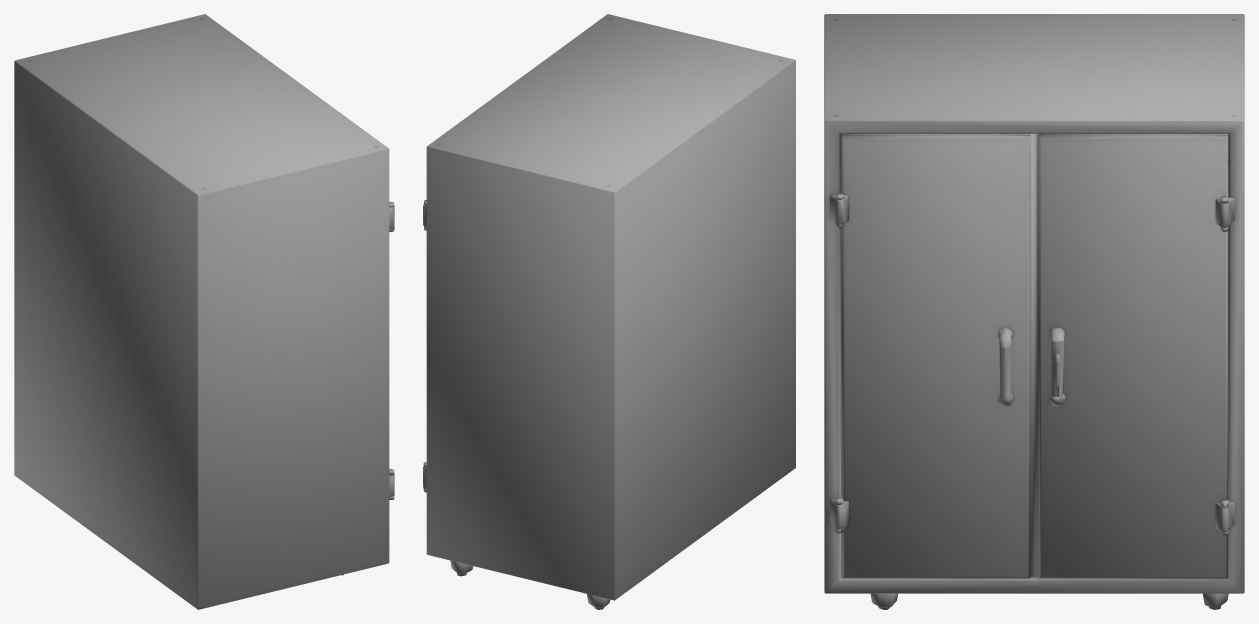
Rendered from cabinet.glb.
The picture shows the model from 3 angles, left to right: view 1: azimuth 30°, elevation 25°; view 2: azimuth 150°, elevation 25°; view 3: azimuth 270°, elevation 25°; orthographic projection. The views are drawn at different scales.
Visible parts, largest first — view 1: tripo_node_e0316133-3cad-4e1a-b404-618dc1505ef9; view 2: tripo_node_e0316133-3cad-4e1a-b404-618dc1505ef9; view 3: tripo_node_e0316133-3cad-4e1a-b404-618dc1505ef9.
Boxes of the visible parts, x1,y1,x2,y2 form: tripo_node_e0316133-3cad-4e1a-b404-618dc1505ef9: (14,14,394,609); tripo_node_e0316133-3cad-4e1a-b404-618dc1505ef9: (423,14,795,609); tripo_node_e0316133-3cad-4e1a-b404-618dc1505ef9: (824,14,1244,609).
Size of the model in its own units: 0.5068 by 1 by 0.7613.
1 material, 1 textured.
